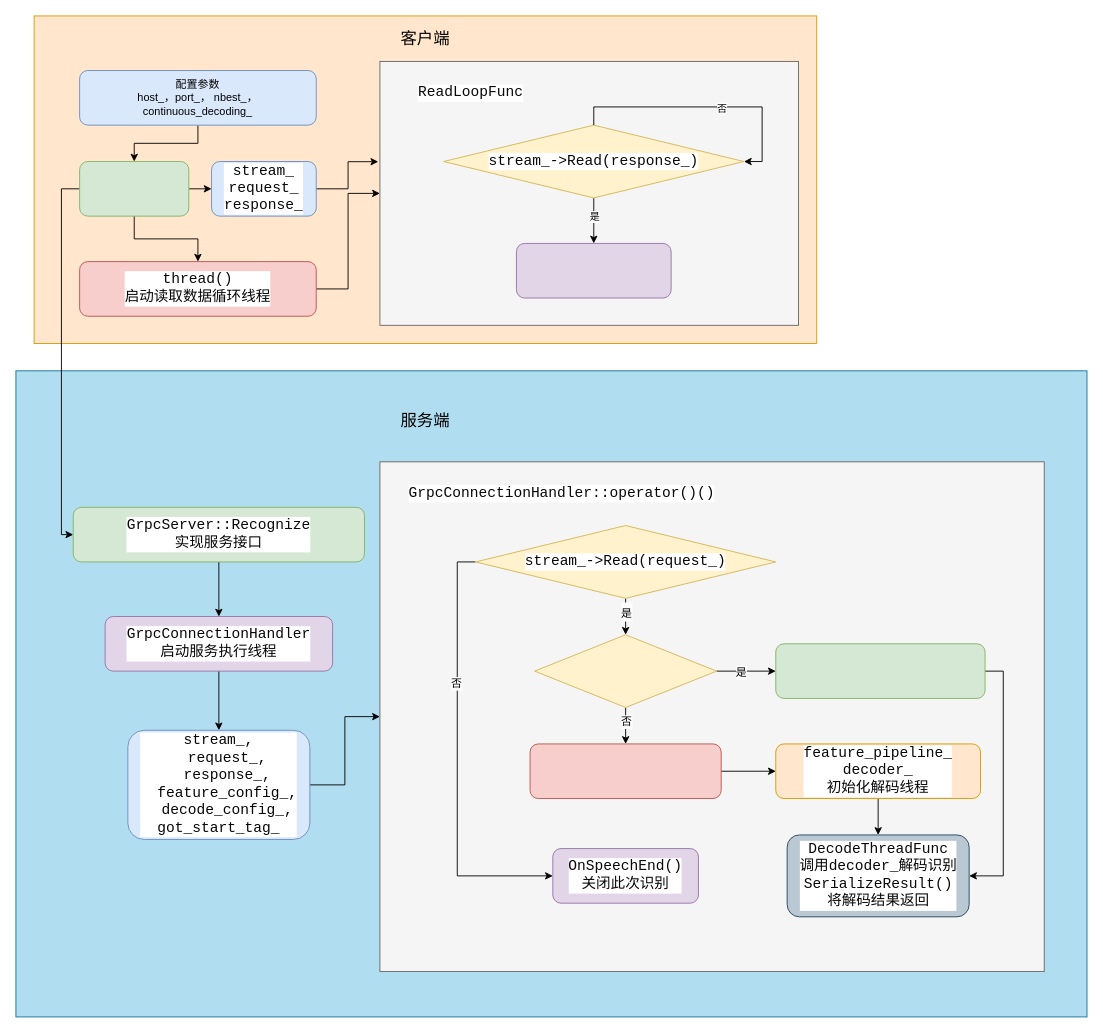
This 1103x1033 diagram has some shape labels left out. The shapes that lost their labels are listed below. From the top down, each one's centre as x and y in pixels, then its label:
At pixel 134 188: "Connect() 发起连接请求".
At pixel 593 270: "读取response_".
At pixel 625 671: "got_start_tag_".
At pixel 880 670: "OnSpeechData() 读取请求数据".
At pixel 625 771: "OnSpeechStart()".
